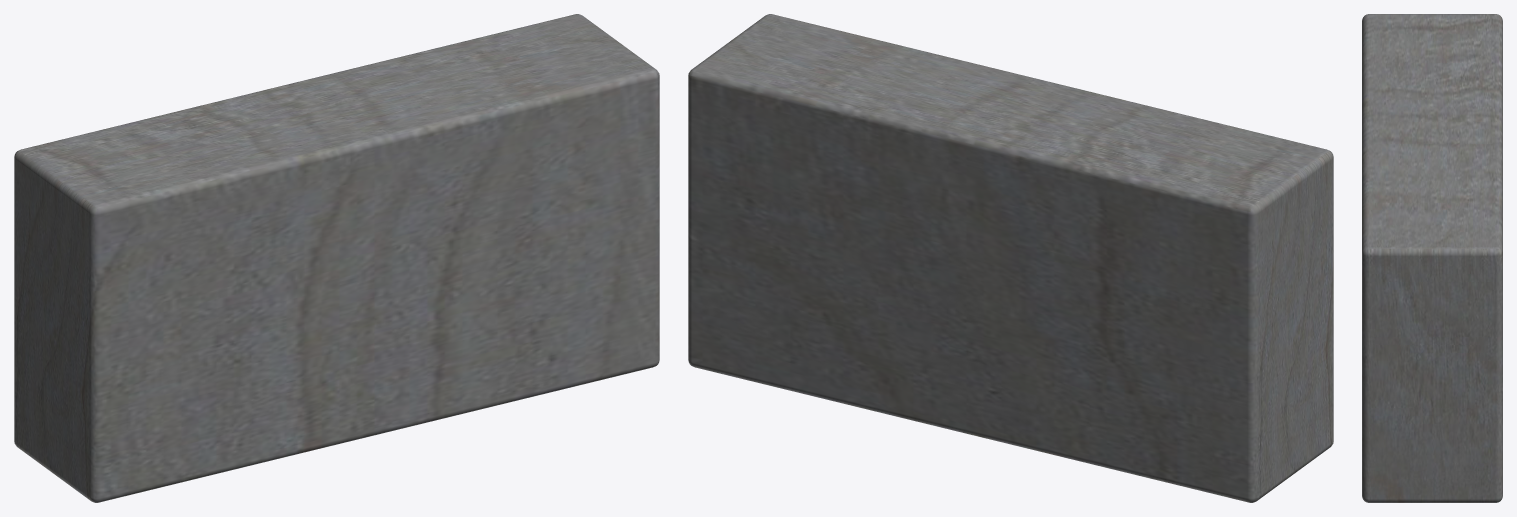
File: InnerWall.obj
3 renders of one model, left to right at view 1: azimuth 30°, elevation 25°; view 2: azimuth 150°, elevation 25°; view 3: azimuth 270°, elevation 25°, orthographic. The views are drawn at different scales.
Parts seen in each view (by area): view 1: InnerWall; view 2: InnerWall; view 3: InnerWall.
Boxes of the visible parts, box(x1,y1,x2,y2) form: InnerWall: box(14, 14, 659, 502); InnerWall: box(688, 14, 1333, 502); InnerWall: box(1362, 14, 1502, 502).
Size of the model in its own units: 400 by 200 by 100.
Materials: 1 (1 with a texture image).
